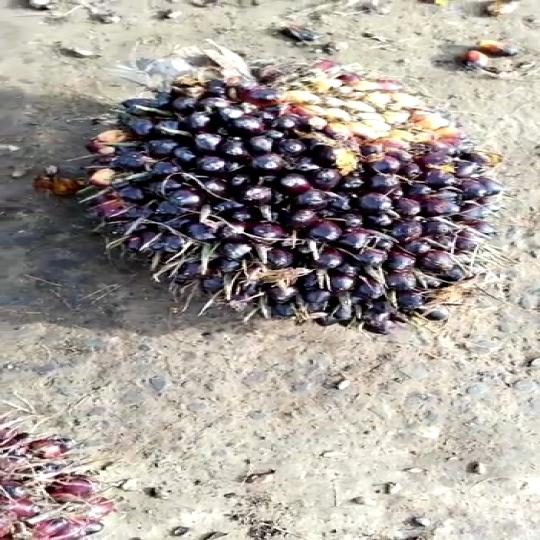mentah: (62, 34, 506, 337)
